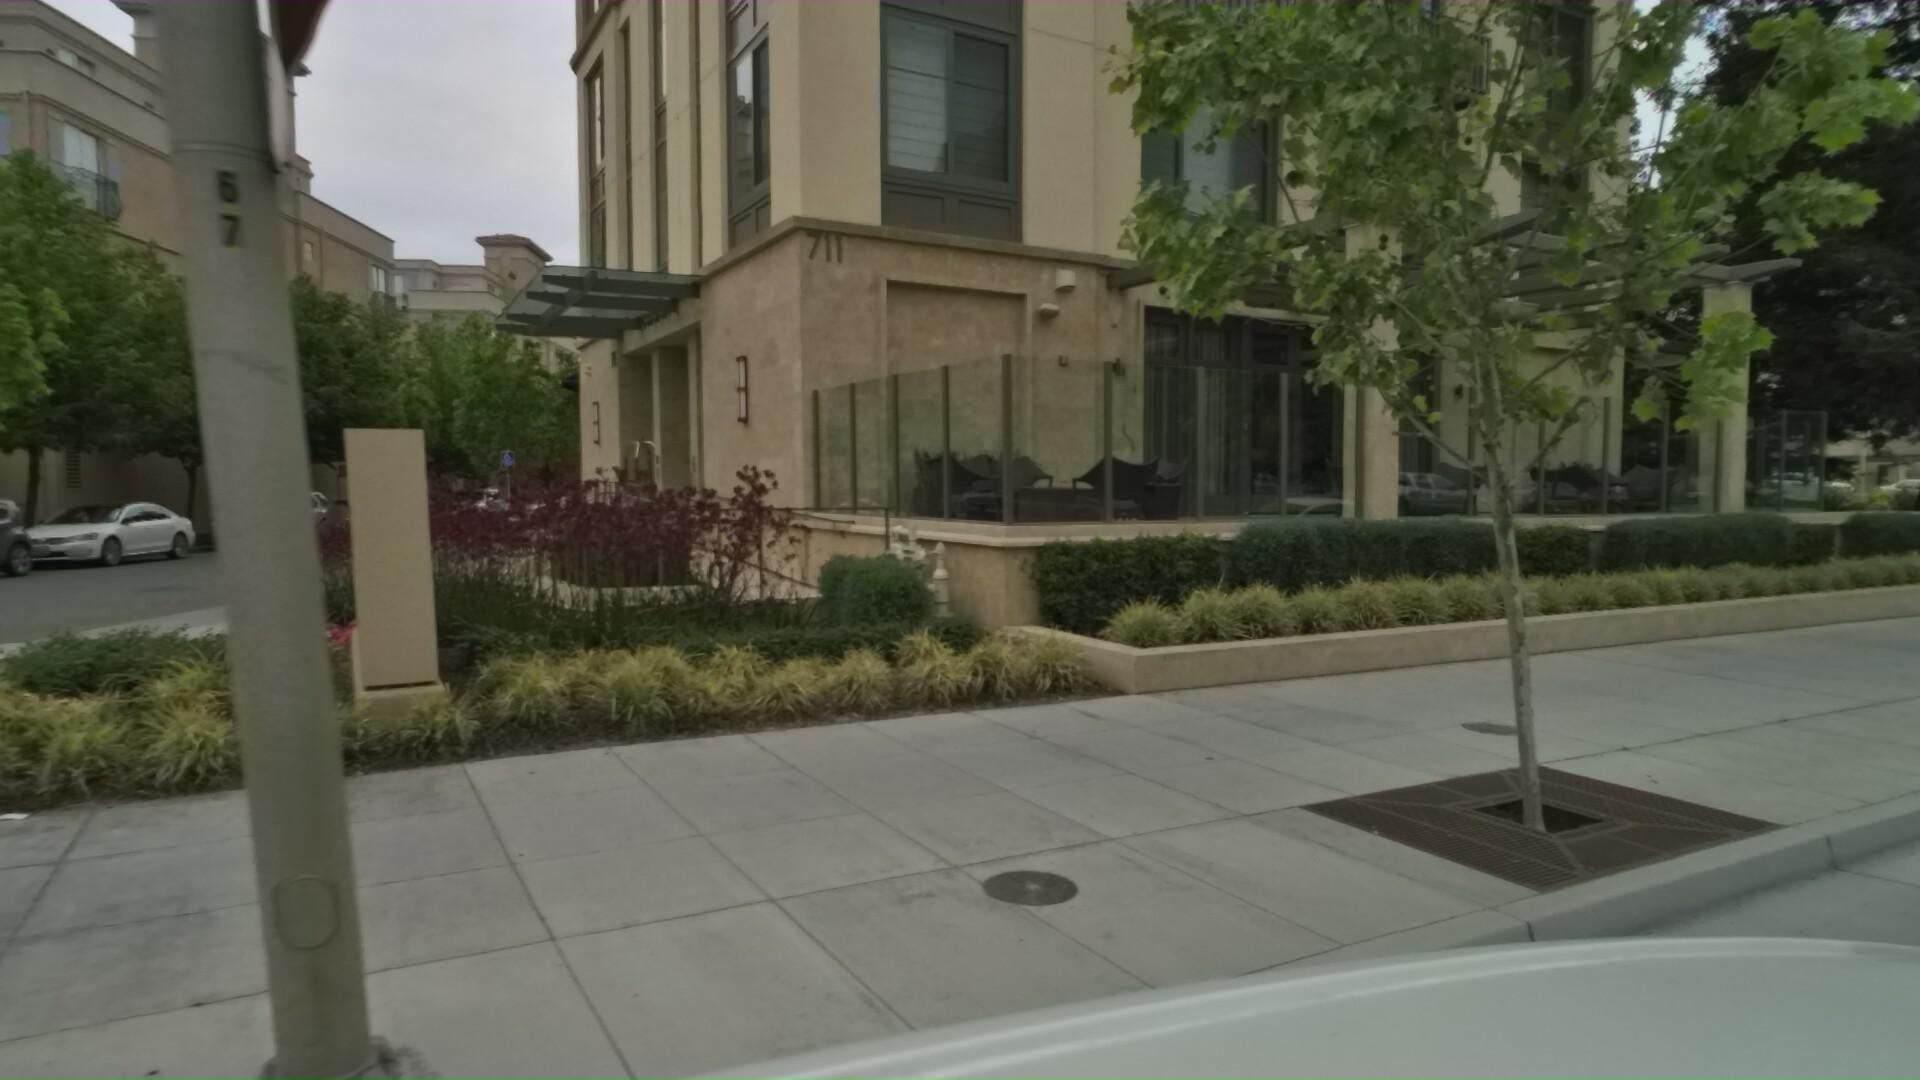car: (16, 492, 227, 572), (222, 484, 361, 550), (0, 487, 74, 592), (313, 489, 419, 539)
